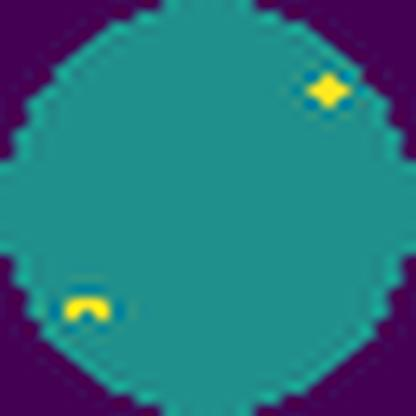Loc: (61, 288, 120, 328), (301, 70, 348, 112)
